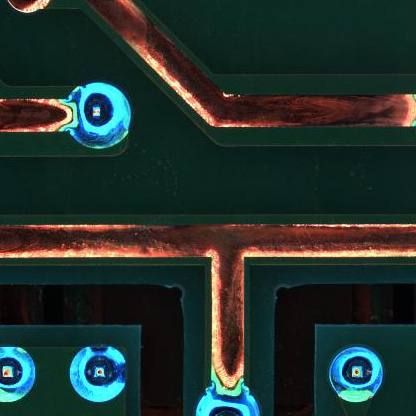spot: (67, 82, 131, 150), (70, 342, 127, 404), (329, 346, 385, 402)
